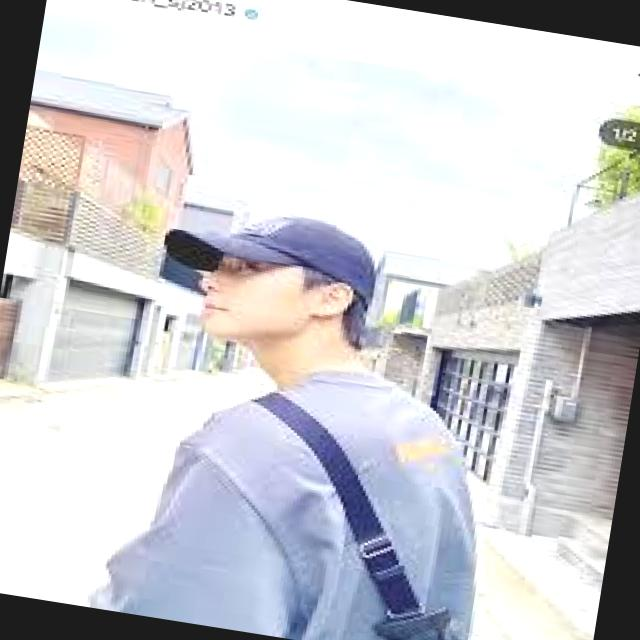sweater: (76, 336, 509, 640)
